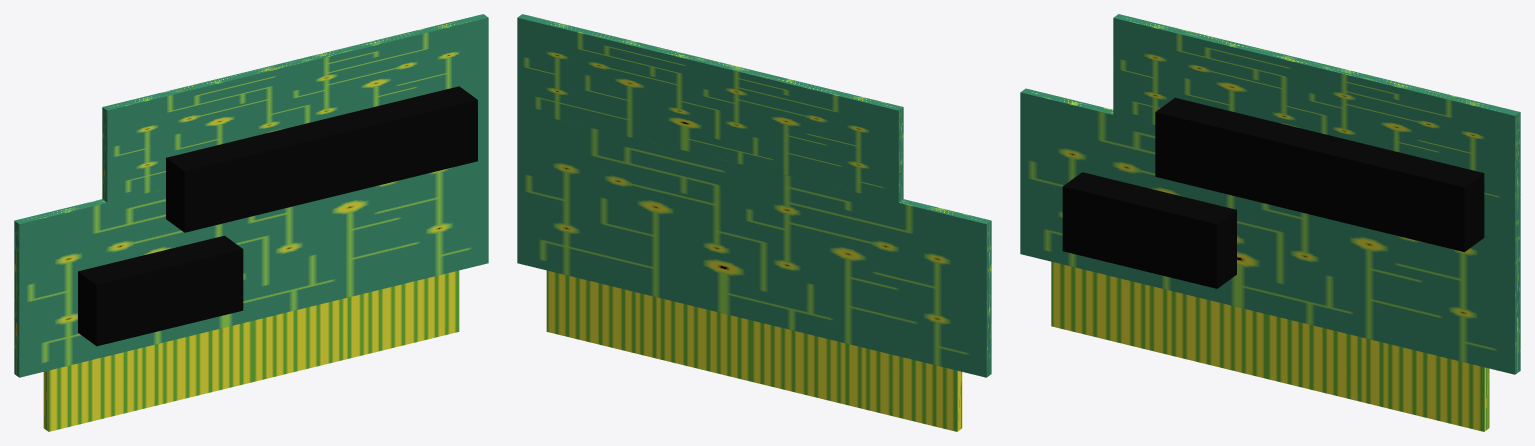
The model's file is Placa 3d.fbx.
3 renders of one model, left to right at view 1: azimuth 30°, elevation 25°; view 2: azimuth 150°, elevation 25°; view 3: azimuth 330°, elevation 25°, orthographic. The views are drawn at different scales.
Visible parts, largest first — view 1: cube, cube_1, cube_3, cube_2, cube_4, cube_5; view 2: cube, cube_1, cube_2, cube_5; view 3: cube, cube_1, cube_3, cube_5, cube_4, cube_2.
Part boxes in pixels (bbox=[...]): cube: bbox=[14, 110, 488, 377]; cube_1: bbox=[102, 14, 488, 202]; cube_3: bbox=[166, 86, 477, 232]; cube_2: bbox=[43, 320, 253, 431]; cube_4: bbox=[78, 235, 243, 346]; cube_5: bbox=[254, 270, 459, 381]; cube: bbox=[517, 110, 991, 377]; cube_1: bbox=[517, 14, 903, 202]; cube_2: bbox=[752, 320, 962, 431]; cube_5: bbox=[546, 270, 751, 381]; cube: bbox=[1020, 88, 1520, 374]; cube_1: bbox=[1113, 14, 1520, 212]; cube_3: bbox=[1155, 97, 1484, 251]; cube_5: bbox=[1267, 314, 1489, 431]; cube_4: bbox=[1062, 172, 1236, 288]; cube_2: bbox=[1051, 261, 1267, 378].
Size of the model in its own units: 100 by 62.5 by 8.75.
3 materials, 3 textured.
